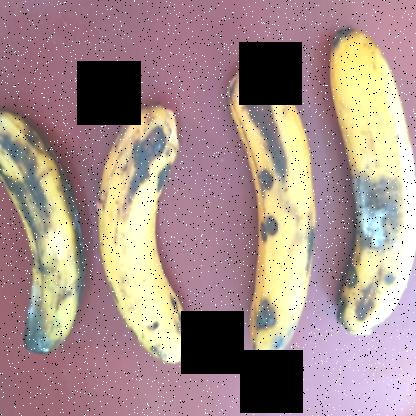overripe: (209, 38, 326, 384), (91, 87, 199, 375)
rotten: (312, 18, 416, 350), (0, 90, 94, 415)
